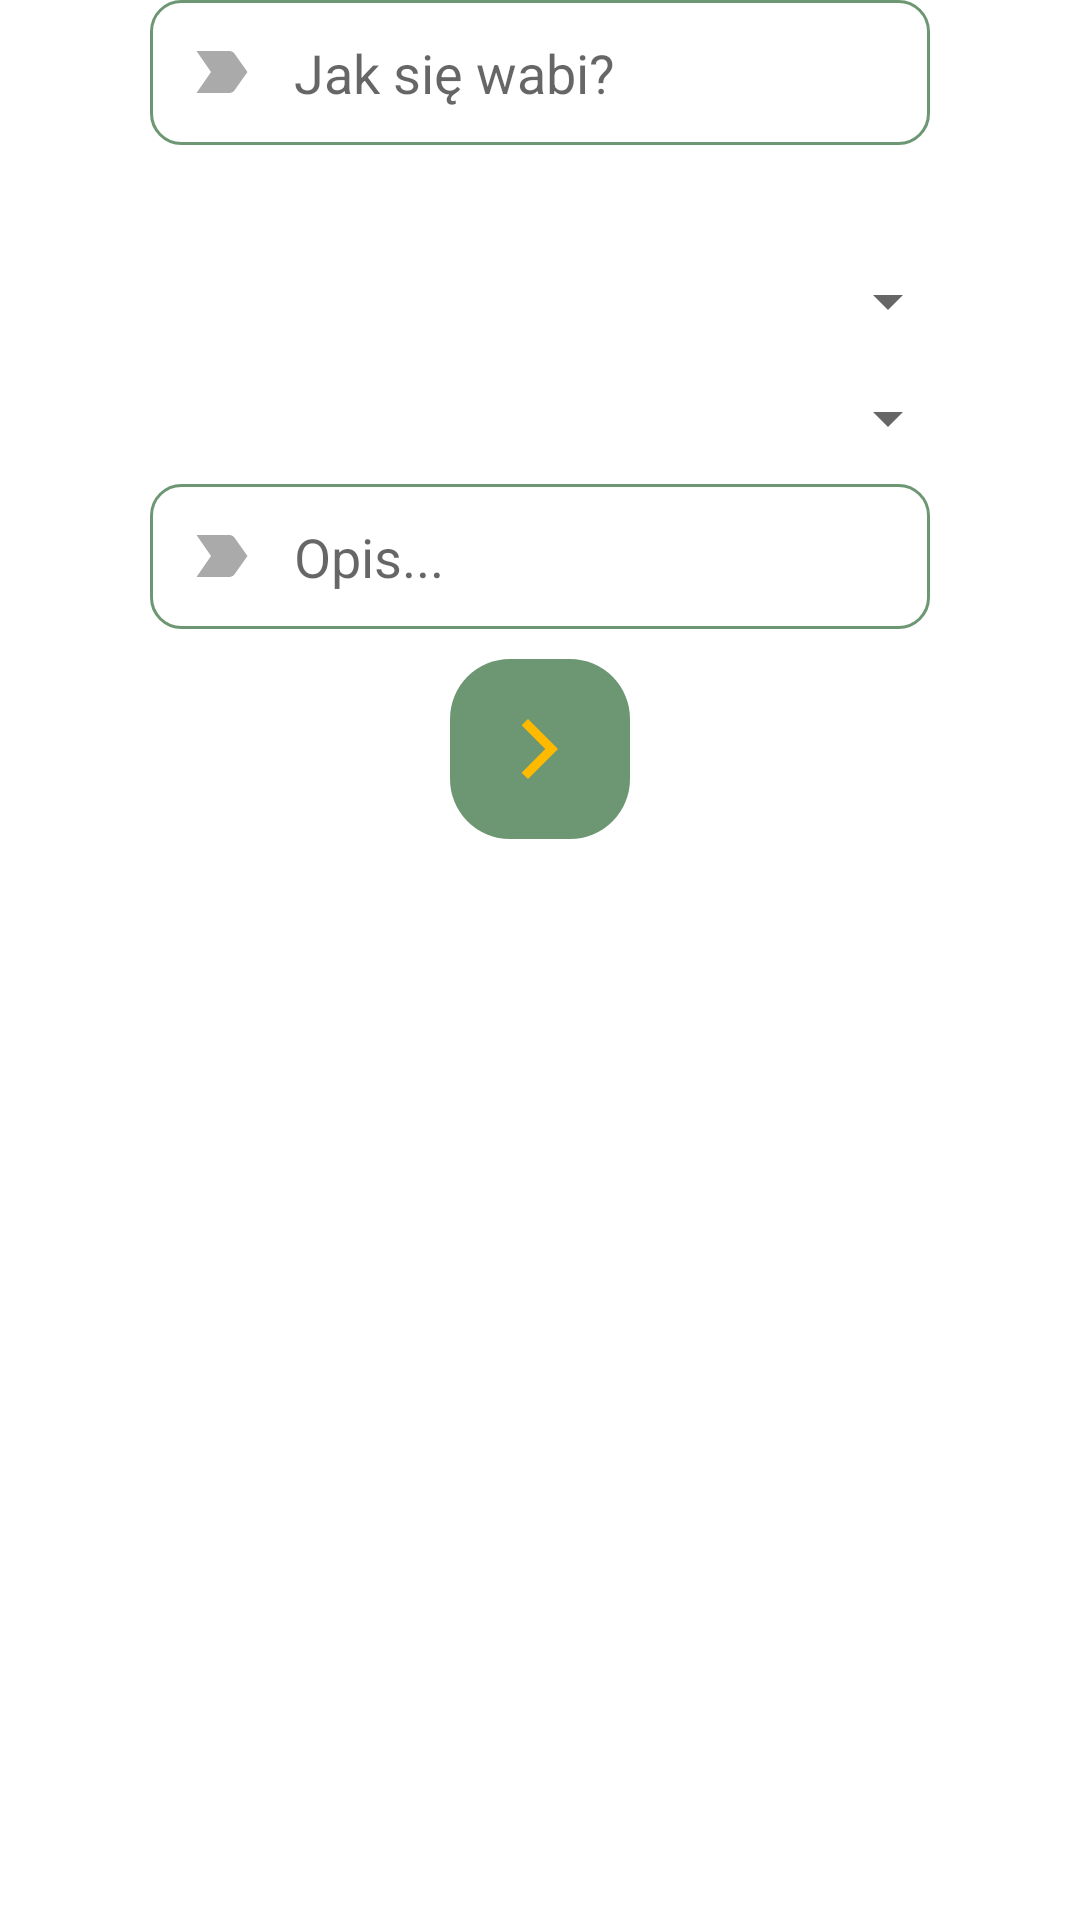

Locate icon controls on the screen. Image size 1080x1920, boxes as (x1, y1, x2, y2).
arrow right: (450, 659, 630, 839)
